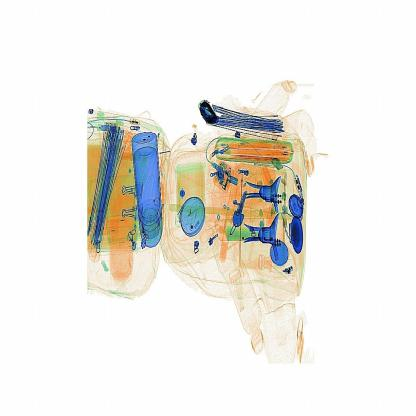scissors: (192, 93, 223, 132)
